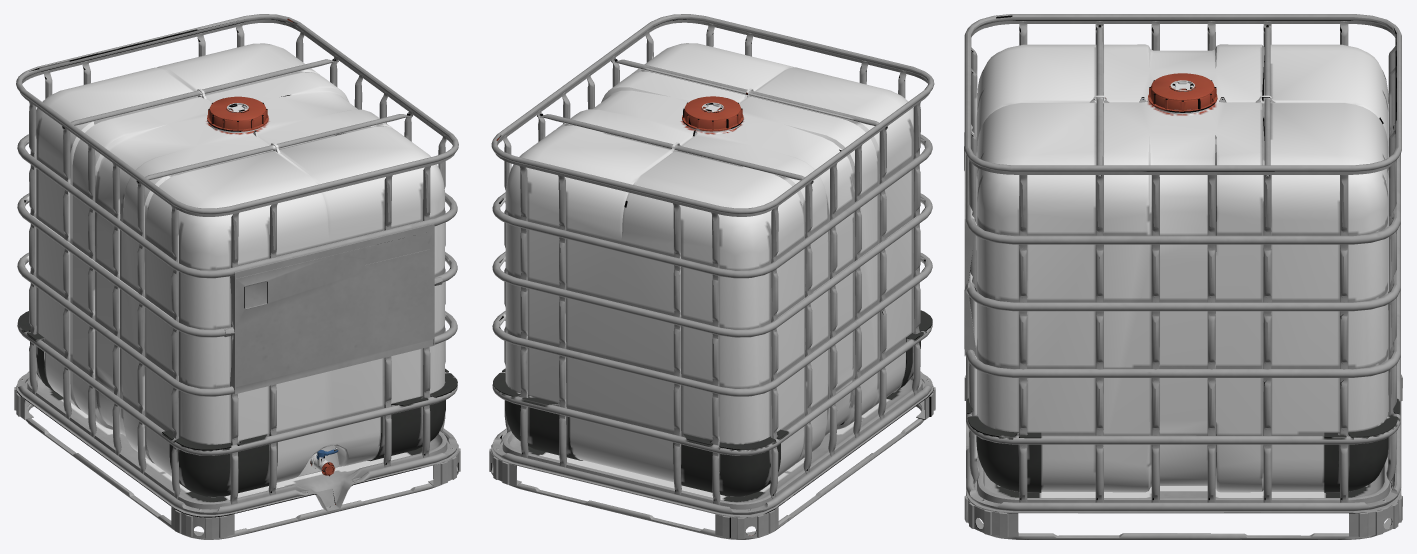
Rendered from ibctank_a02.glb.
The picture shows the model from 3 angles, left to right: view 1: azimuth 30°, elevation 25°; view 2: azimuth 150°, elevation 25°; view 3: azimuth 270°, elevation 25°; orthographic projection. The views are drawn at different scales.
Parts seen in each view (by area): view 1: ibctank_a02_lod1; view 2: ibctank_a02_lod1; view 3: ibctank_a02_lod1.
Boxes of the visible parts, x1,y1,x2,y2 form: ibctank_a02_lod1: (14,14,460,539); ibctank_a02_lod1: (489,14,935,539); ibctank_a02_lod1: (964,14,1402,539).
Bounding box in the file's own units: 1.05 × 1.2 × 1.26.
1 material, 1 textured.
